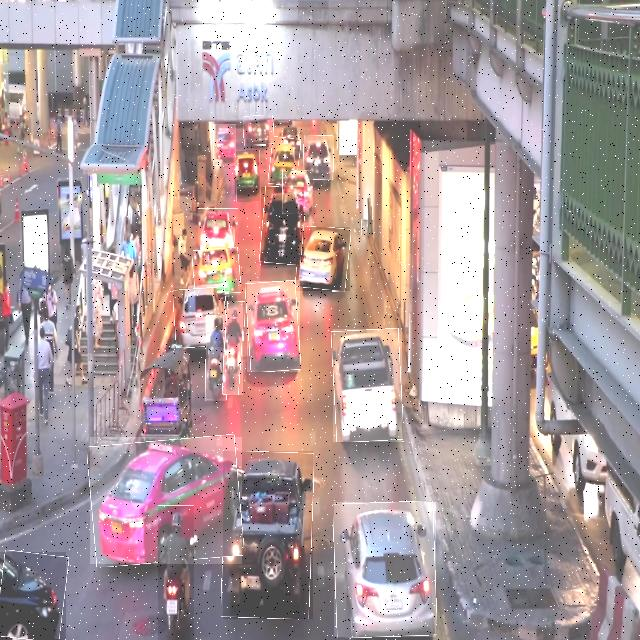Car: (90, 437, 242, 564), (334, 502, 436, 637), (0, 552, 66, 640), (247, 281, 300, 372), (296, 228, 350, 292), (261, 187, 304, 265), (174, 288, 228, 348), (194, 248, 240, 295), (198, 208, 238, 251), (270, 137, 300, 186), (282, 170, 313, 214), (304, 136, 334, 180), (236, 150, 260, 202), (213, 124, 236, 166), (244, 116, 274, 146)
Motorcycle: (158, 505, 194, 640), (224, 301, 244, 395), (206, 316, 227, 402)
Truck: (223, 451, 313, 619), (333, 329, 402, 442)
